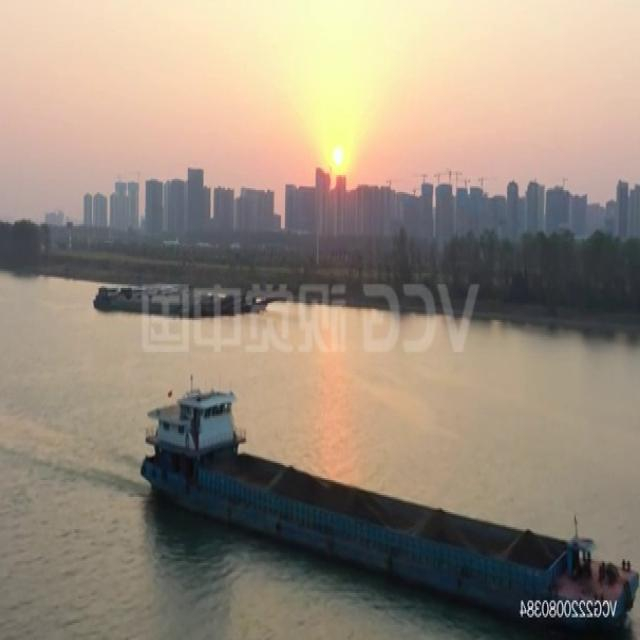cargoship: (140, 380, 638, 625)
